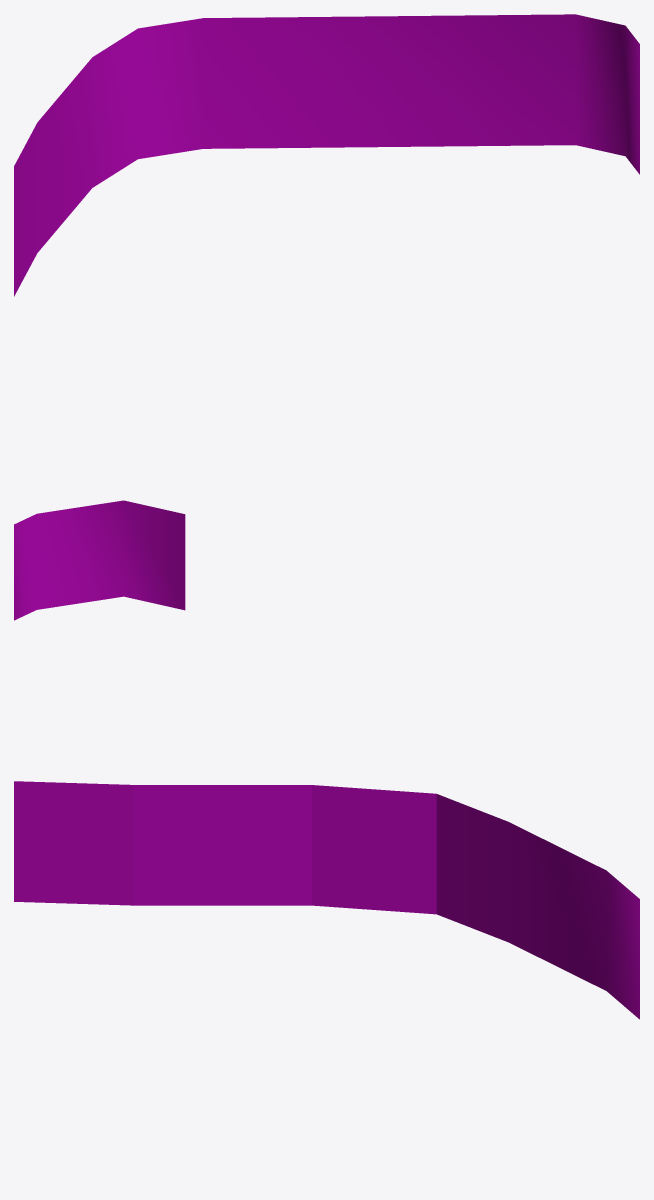
File: M9_Zone1_CliffPoly1.glb
3 views of the same model, one above another, from view 1: azimuth 30°, elevation 25°; view 2: azimuth 150°, elevation 25°; view 3: azimuth 270°, elevation 25° (orthographic). The views are drawn at different scales.
Parts seen in each view (by area): view 1: M9_ZONE1_CLIFFPOLY1; view 2: M9_ZONE1_CLIFFPOLY1; view 3: M9_ZONE1_CLIFFPOLY1.
Boxes of the visible parts, x1=… form: M9_ZONE1_CLIFFPOLY1: x1=14, y1=14, x2=639, y2=296; M9_ZONE1_CLIFFPOLY1: x1=14, y1=500, x2=185, y2=620; M9_ZONE1_CLIFFPOLY1: x1=14, y1=781, x2=639, y2=1019.
Size of the model in its own units: 60.56 by 12 by 56.43.
